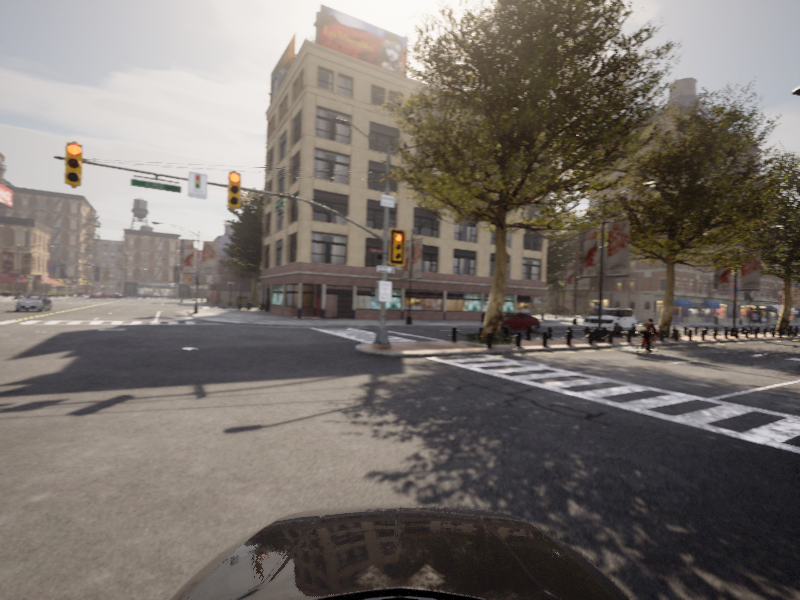vehicle: (579, 306, 640, 336), (629, 317, 665, 357), (479, 311, 544, 333), (11, 292, 54, 312)
